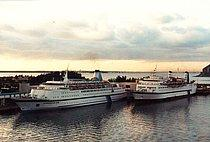Ship: (11, 65, 132, 113), (135, 73, 208, 101)
